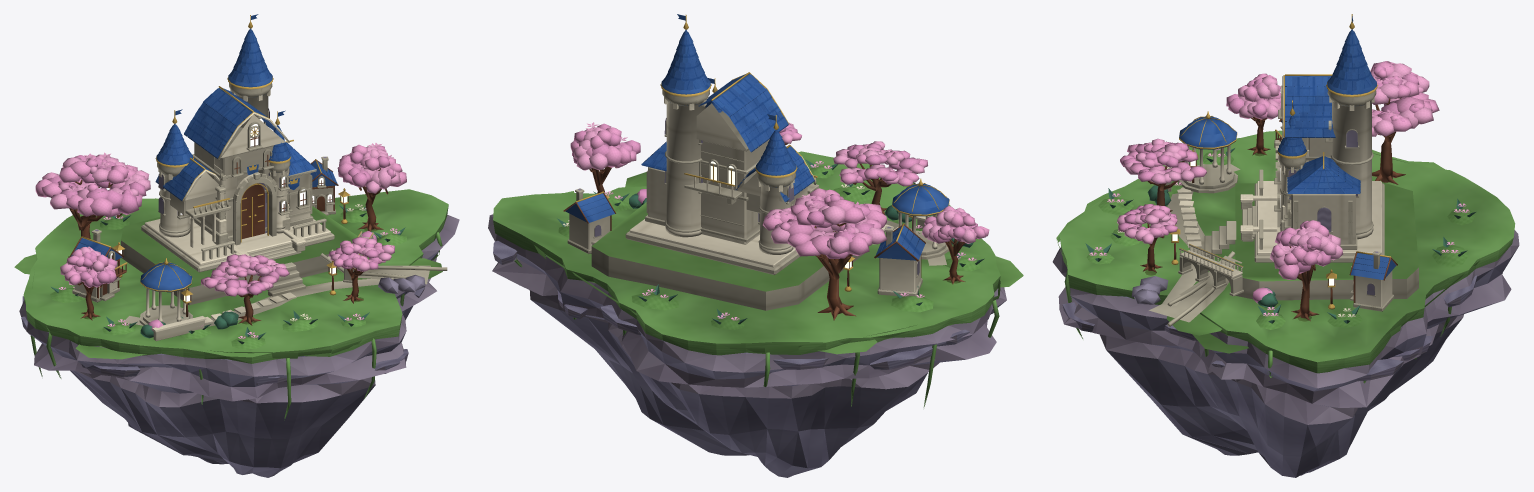
File: royal-island-right-final-v1.glb
The picture shows the model from 3 angles, left to right: view 1: azimuth 30°, elevation 25°; view 2: azimuth 150°, elevation 25°; view 3: azimuth 270°, elevation 25°; orthographic projection. The views are drawn at different scales.
Parts seen in each view (by area): view 1: royal-island-right-final-v1; view 2: royal-island-right-final-v1; view 3: royal-island-right-final-v1.
Part boxes in pixels (left/top/right/bottom): royal-island-right-final-v1: left=14, top=14, right=459, bottom=477; royal-island-right-final-v1: left=488, top=14, right=1023, bottom=477; royal-island-right-final-v1: left=1052, top=14, right=1519, bottom=477.
Size of the model in its own units: 18.84 by 16.85 by 15.52.
Materials: 10 (10 with a texture image).
